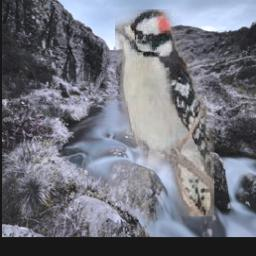Woodpecker: (115, 10, 214, 217)
